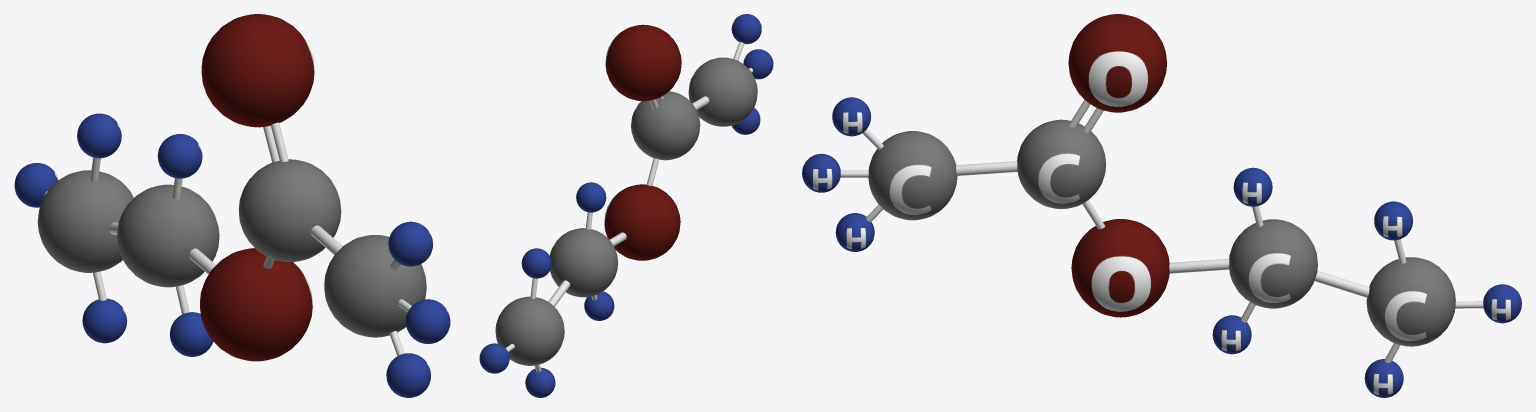
The model's file is ethylEthanoate.glb.
The picture shows the model from 3 angles, left to right: view 1: azimuth 30°, elevation 25°; view 2: azimuth 150°, elevation 25°; view 3: azimuth 270°, elevation 25°; orthographic projection. The views are drawn at different scales.
Visible parts, largest first — view 1: oxygen, oxygen.001, carbon1, carbon1.002, carbon1.001, carbon1.003, hydrogen.004, hydrogen.006, hydrogen.003, hydrogen.002, hydrogen.001, hydrogen.007 (+3 smaller); view 2: oxygen, oxygen.001, carbon1.002, carbon1.003, carbon1.001, carbon1, hydrogen.008, hydrogen.006, hydrogen.001, hydrogen.002, hydrogen.007, hydrogen.005 (+2 smaller); view 3: oxygen, oxygen.001, carbon1.001, carbon1.002, carbon1.003, carbon1, hydrogen.006, hydrogen.008, hydrogen.002, hydrogen.001, hydrogen.003, hydrogen.004 (+5 smaller).
Part boxes in pixels (x1,y1,x2,y2): oxygen: (201, 14, 314, 127); oxygen.001: (200, 248, 312, 361); carbon1: (238, 159, 341, 261); carbon1.002: (117, 184, 219, 287); carbon1.001: (324, 235, 426, 337); carbon1.003: (37, 170, 134, 272); hydrogen.004: (386, 353, 430, 397); hydrogen.006: (77, 113, 121, 158); hydrogen.003: (405, 299, 450, 343); hydrogen.002: (388, 221, 433, 266); hydrogen.001: (157, 134, 202, 178); hydrogen.007: (82, 298, 127, 343); oxygen: (605, 24, 681, 101); oxygen.001: (604, 184, 680, 260); carbon1.002: (549, 228, 618, 297); carbon1.003: (495, 296, 564, 365); carbon1.001: (688, 57, 757, 126); carbon1: (631, 91, 700, 160); hydrogen.008: (479, 343, 509, 373); hydrogen.006: (521, 248, 551, 278); hydrogen.001: (576, 182, 606, 212); hydrogen.002: (731, 14, 761, 44); hydrogen.007: (525, 367, 555, 397); hydrogen.005: (584, 291, 614, 320); oxygen: (1068, 14, 1167, 112); oxygen.001: (1071, 219, 1169, 317); carbon1.001: (868, 131, 957, 220); carbon1.002: (1229, 219, 1317, 308); carbon1.003: (1366, 257, 1455, 346); carbon1: (1017, 119, 1106, 208); hydrogen.006: (1374, 201, 1412, 240); hydrogen.008: (1483, 284, 1521, 323); hydrogen.002: (832, 97, 871, 136); hydrogen.001: (1233, 167, 1272, 206); hydrogen.003: (802, 153, 840, 192); hydrogen.004: (835, 213, 874, 251).
Size of the model in its own units: 0.6398 by 2.7 by 4.67.
Materials: 28 (14 with a texture image).
